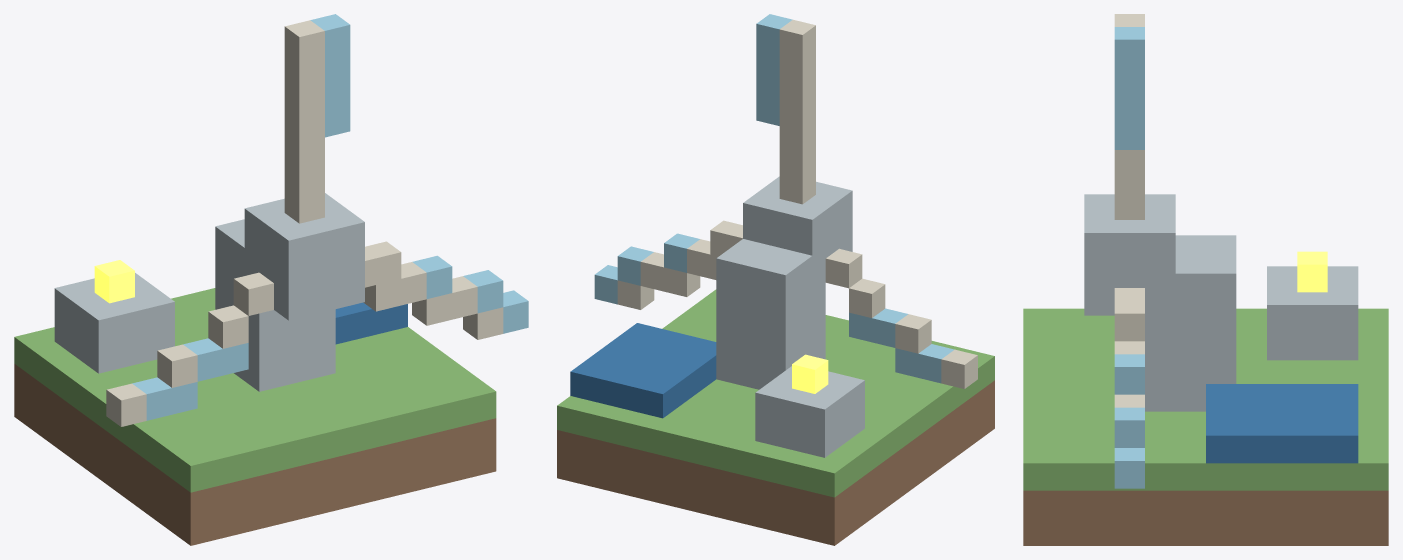
File: energy.glb
3 views of the same model, side by side, from view 1: azimuth 30°, elevation 25°; view 2: azimuth 150°, elevation 25°; view 3: azimuth 270°, elevation 25° (orthographic). The views are drawn at different scales.
Parts seen in each view (by area): view 1: VX_energy, ANIM_rotor_spin; view 2: VX_energy, ANIM_rotor_spin; view 3: VX_energy, ANIM_rotor_spin.
Part boxes in pixels (box(x1,y1,x2,y2)): VX_energy: box(14, 219, 496, 545); ANIM_rotor_spin: box(106, 14, 528, 426); VX_energy: box(557, 239, 994, 545); ANIM_rotor_spin: box(594, 14, 977, 388); VX_energy: box(1023, 235, 1388, 545); ANIM_rotor_spin: box(1084, 14, 1175, 488).
Size of the model in its own units: 4.32 by 4.45 by 3.24.
